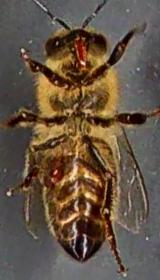varroa_mite: (33, 156, 70, 192)
